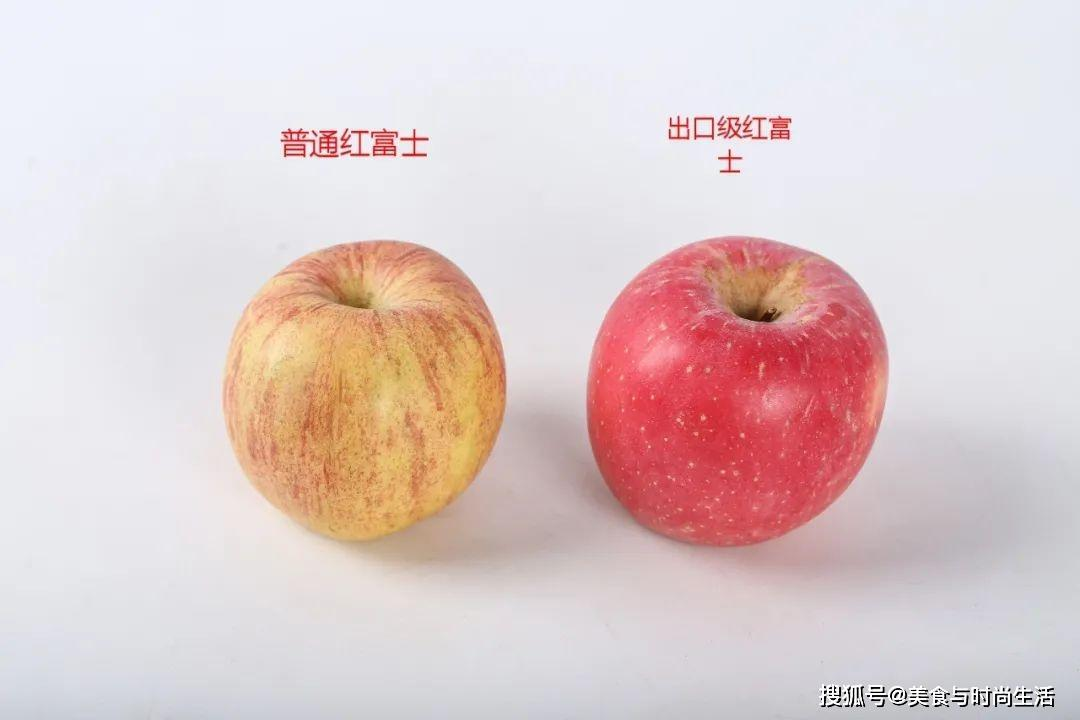apple: (578, 229, 890, 548), (220, 234, 512, 540)
